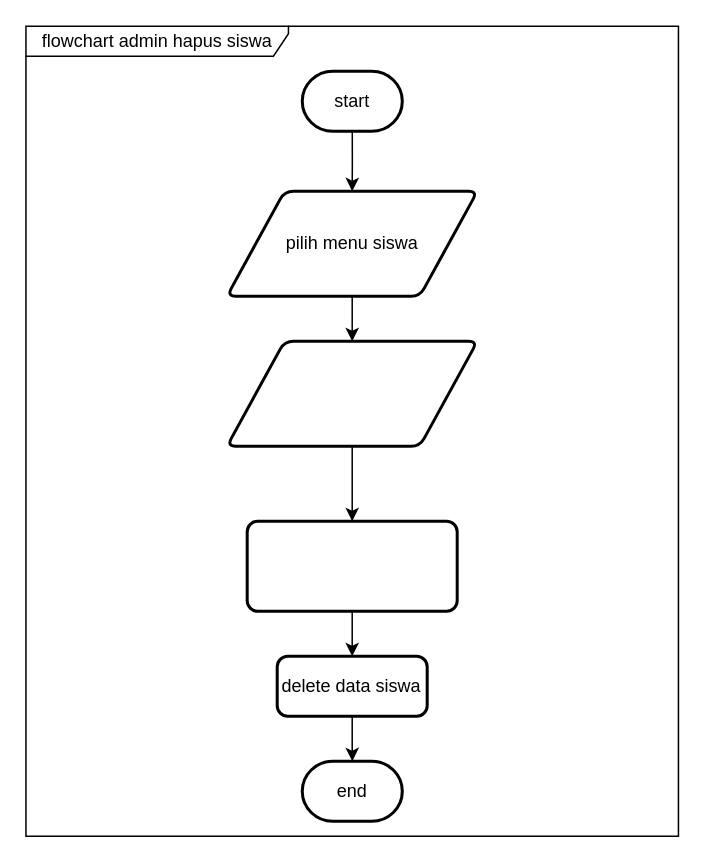
Some shapes in this 705 by 863 pixel diagram are drawn without their labels. The box of each missing label's shape, as (x1, y1, x2, y2) in pixels:
get siswa by id_siswa: (245, 519, 458, 612)
hapus siswa: (225, 339, 478, 447)
